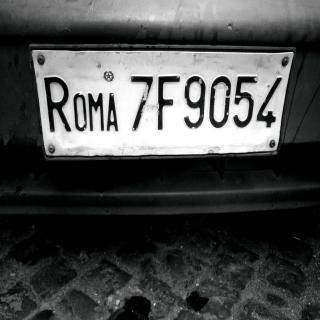license: (29, 45, 297, 163)
